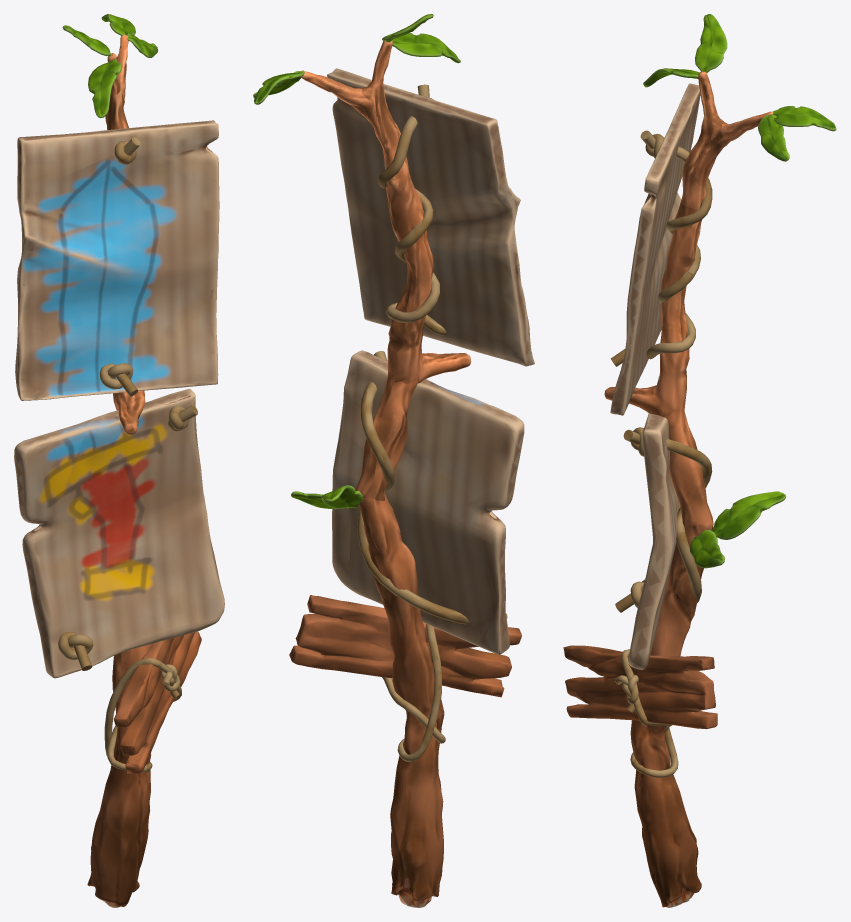
Rendered from Cardboard_Sword.glb.
The picture shows the model from 3 angles, left to right: view 1: azimuth 30°, elevation 25°; view 2: azimuth 150°, elevation 25°; view 3: azimuth 270°, elevation 25°; orthographic projection. The views are drawn at different scales.
Visible parts, largest first — view 1: low paper.001_Material.001_0, stick low.001_Material.004_0, low plank_Material_0, NurbsPath.001__0, leaf low.001_Material.002_0; view 2: low paper.001_Material.001_0, stick low.001_Material.004_0, low plank_Material_0, NurbsPath.001__0, leaf low.001_Material.002_0; view 3: stick low.001_Material.004_0, low paper.001_Material.001_0, low plank_Material_0, NurbsPath.001__0, leaf low.001_Material.002_0.
Boxes of the visible parts, x1=… form: low paper.001_Material.001_0: x1=14, y1=120, x2=224, y2=678; stick low.001_Material.004_0: x1=87, y1=34, x2=151, y2=907; low plank_Material_0: x1=114, y1=631, x2=201, y2=773; NurbsPath.001__0: x1=58, y1=137, x2=197, y2=772; leaf low.001_Material.002_0: x1=62, y1=14, x2=157, y2=118; low paper.001_Material.001_0: x1=327, y1=68, x2=534, y2=654; stick low.001_Material.004_0: x1=300, y1=40, x2=471, y2=907; low plank_Material_0: x1=289, y1=595, x2=521, y2=697; NurbsPath.001__0: x1=357, y1=84, x2=507, y2=762; leaf low.001_Material.002_0: x1=253, y1=14, x2=460, y2=509; stick low.001_Material.004_0: x1=604, y1=71, x2=773, y2=907; low paper.001_Material.001_0: x1=610, y1=83, x2=700, y2=669; low plank_Material_0: x1=563, y1=645, x2=717, y2=729; NurbsPath.001__0: x1=610, y1=130, x2=712, y2=777; leaf low.001_Material.002_0: x1=643, y1=14, x2=836, y2=568.
Bounding box in the file's own units: 0.6735 × 2.71 × 0.7648.
5 materials, 5 textured.
